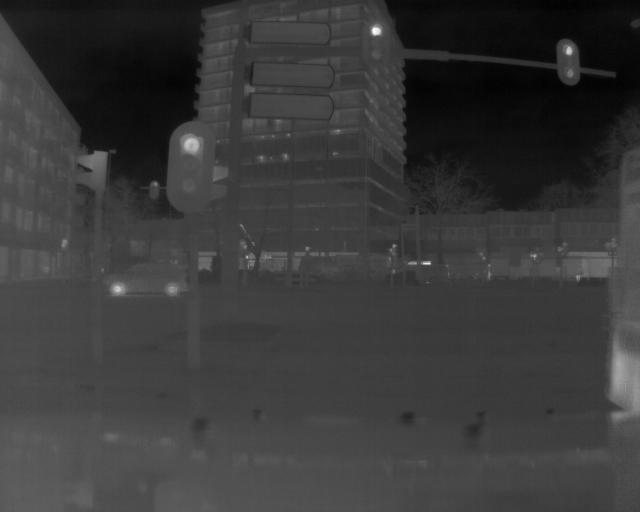car: (103, 262, 191, 300)
